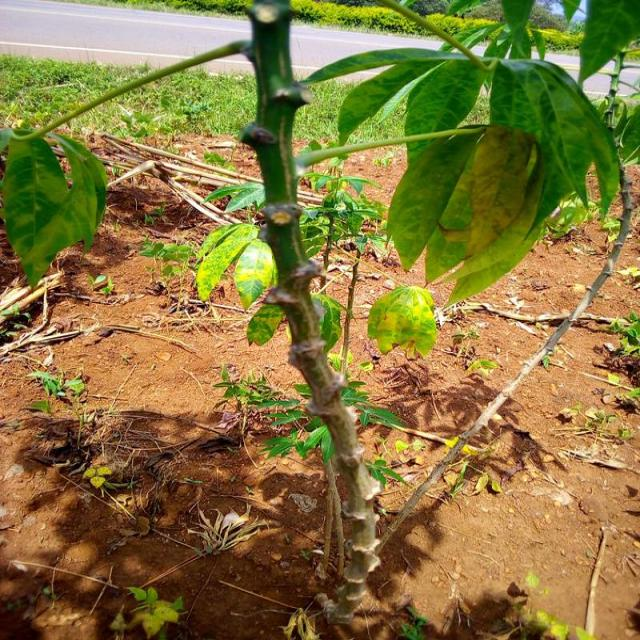cassava leaf: (1, 125, 107, 288), (194, 221, 260, 302), (366, 284, 437, 357), (233, 238, 276, 309)
